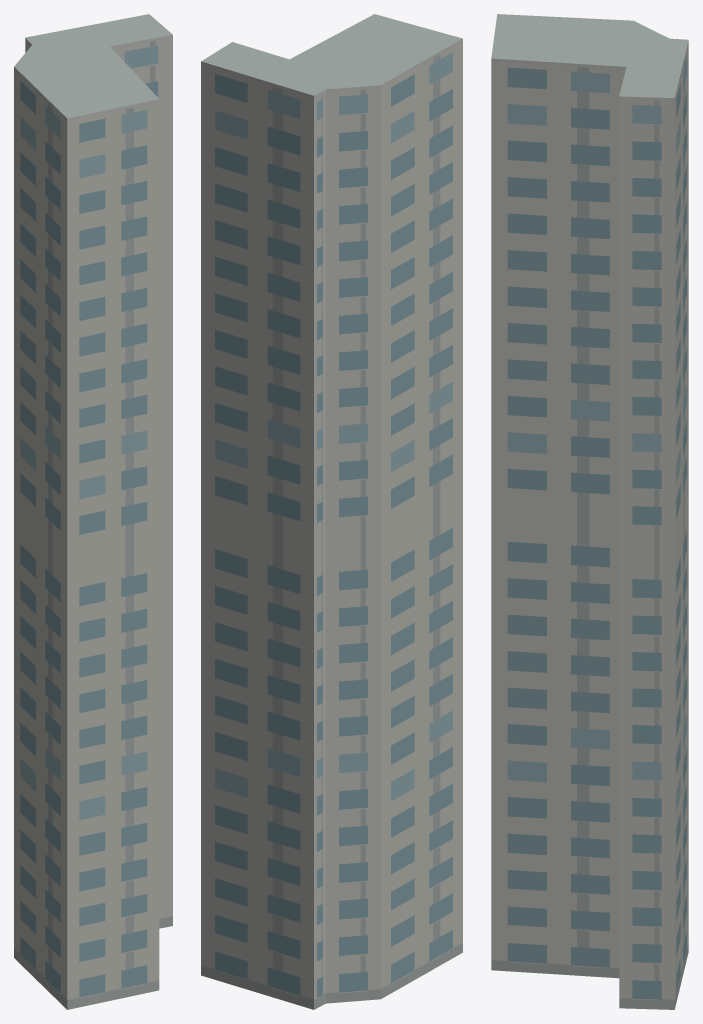
Rendered from survey-upis-32903391.glb.
The picture shows the model from 3 angles, left to right: view 1: azimuth 30°, elevation 25°; view 2: azimuth 150°, elevation 25°; view 3: azimuth 270°, elevation 25°; orthographic projection. The views are drawn at different scales.
Visible parts, largest first — view 1: survey-upis-32903391.tmp; view 2: survey-upis-32903391.tmp; view 3: survey-upis-32903391.tmp.
Part boxes in pixels (x1,y1,x2,y2): survey-upis-32903391.tmp: (14, 14, 172, 1009); survey-upis-32903391.tmp: (201, 14, 462, 1009); survey-upis-32903391.tmp: (491, 14, 688, 1009).
Bounding box in the file's own units: 15.1 × 76.25 × 14.98.
